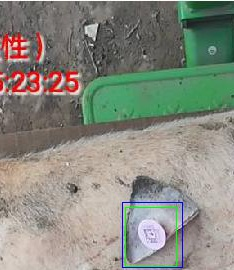text: (125, 207, 176, 266)
